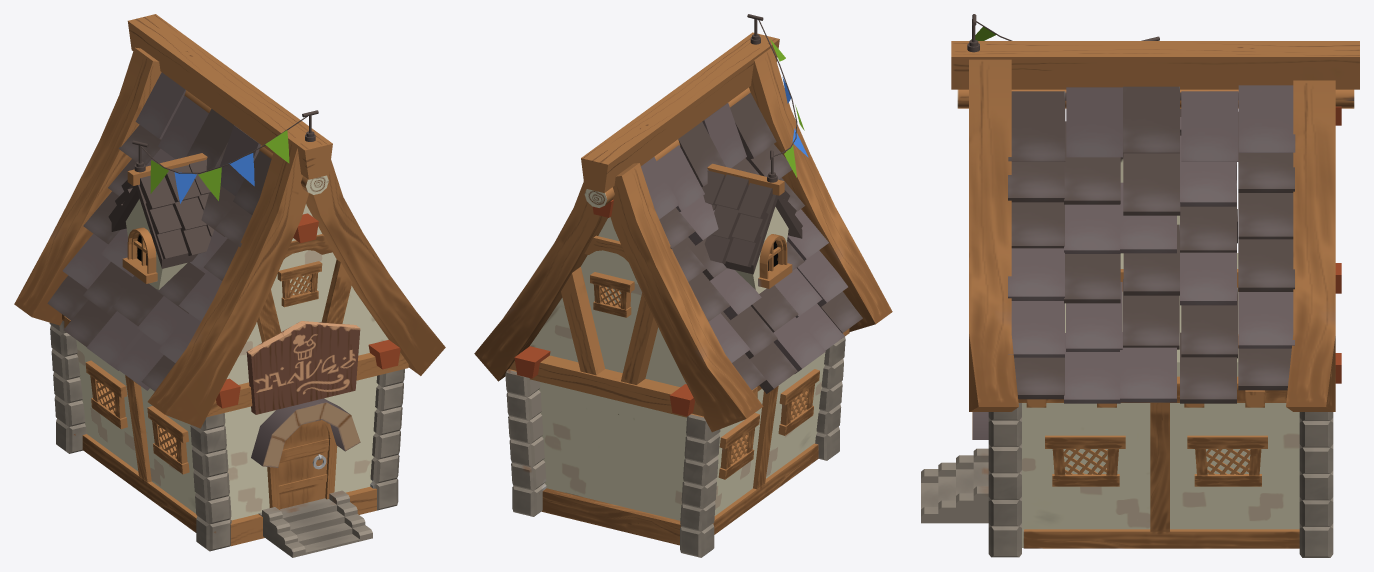
Rendered from F_House_Out_005 2.fbx.
The picture shows the model from 3 angles, left to right: view 1: azimuth 30°, elevation 25°; view 2: azimuth 150°, elevation 25°; view 3: azimuth 270°, elevation 25°; orthographic projection. The views are drawn at different scales.
Parts seen in each view (by area): view 1: Object238; view 2: Object238; view 3: Object238.
Part boxes in pixels (bbox=[...]): Object238: bbox=[14, 14, 445, 557]; Object238: bbox=[474, 14, 892, 557]; Object238: bbox=[921, 14, 1359, 557].
Size of the model in its own units: 381 by 547 by 447.
